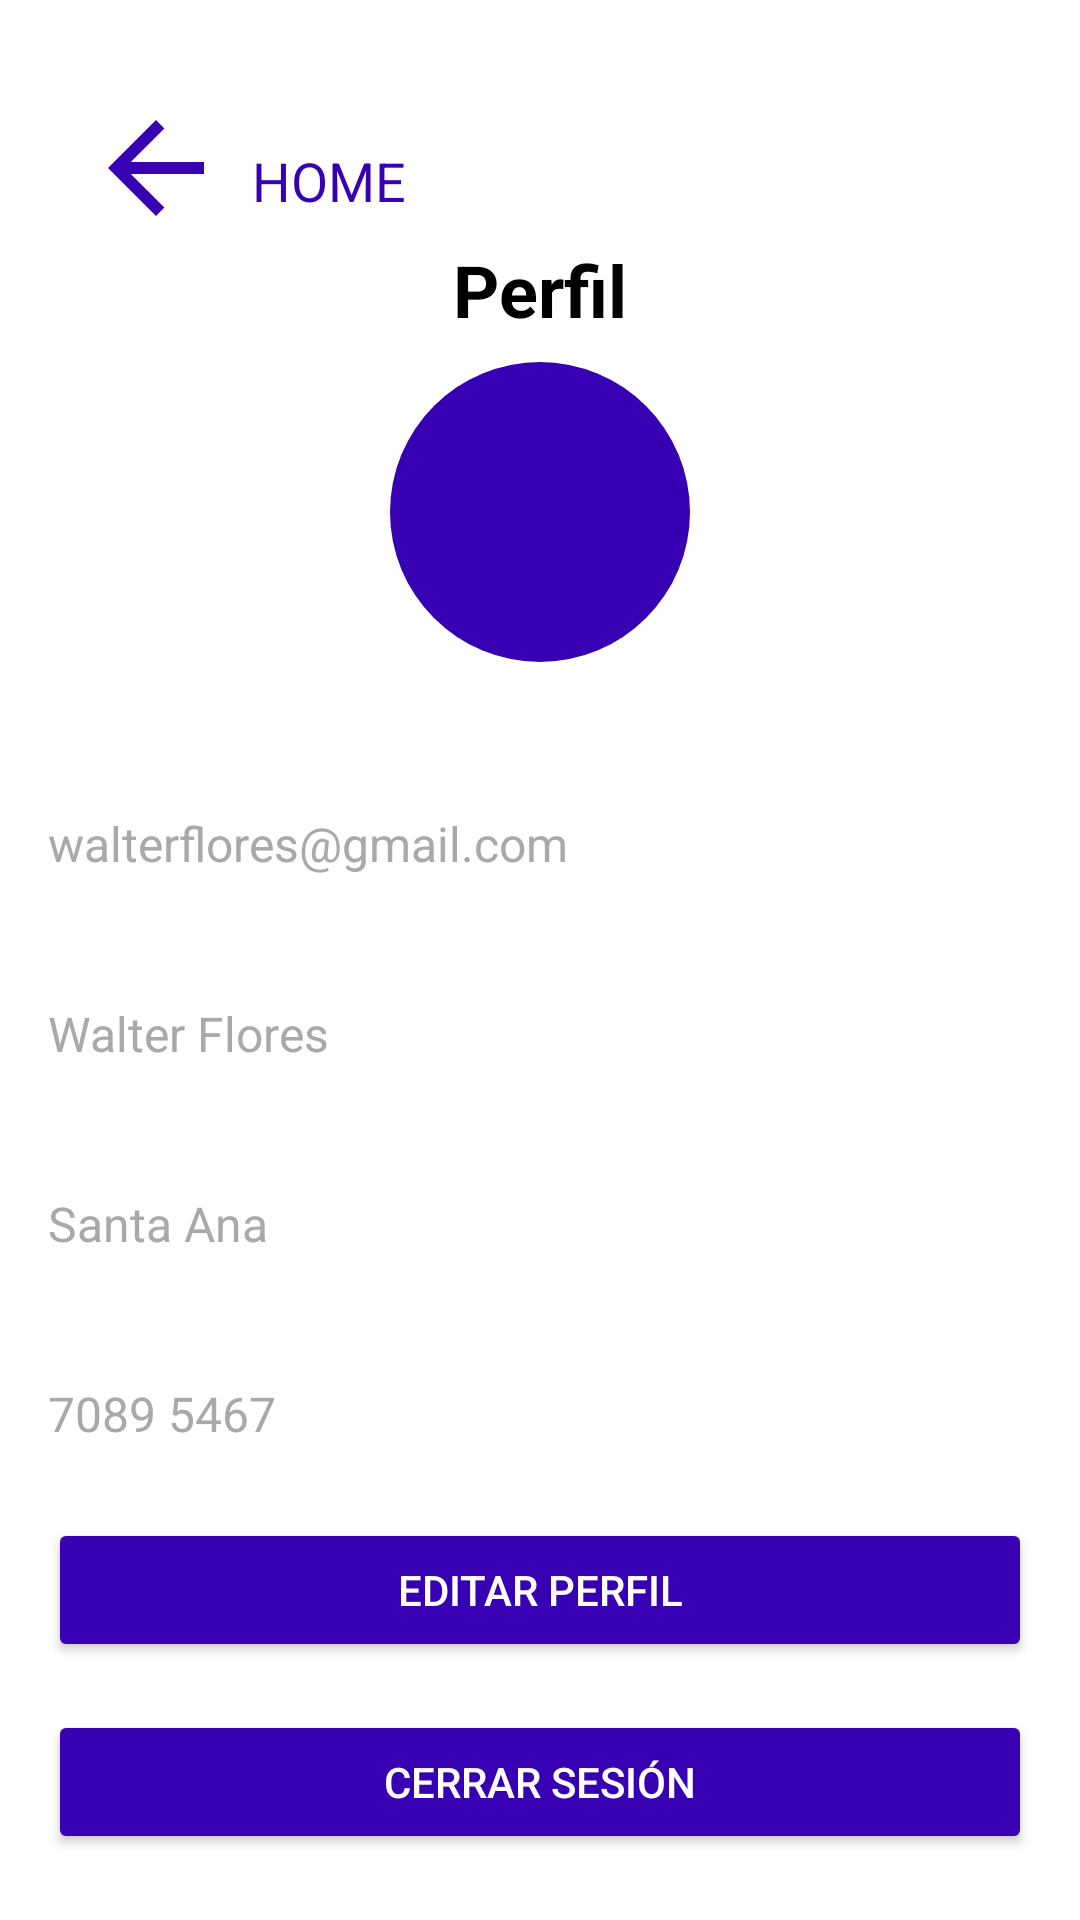

Named icons in this screenshot (1080x1920) and their centers, (x=x, y=y):
Retroceder: (x=156, y=168)
